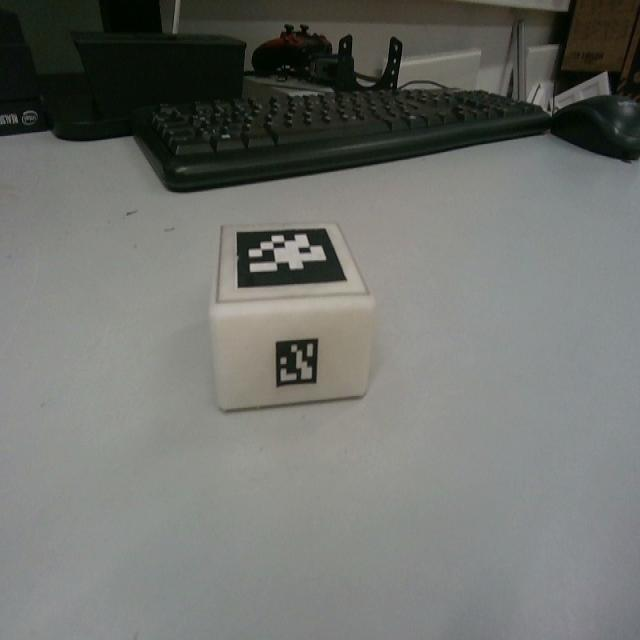Cube: (207, 219, 376, 412)
